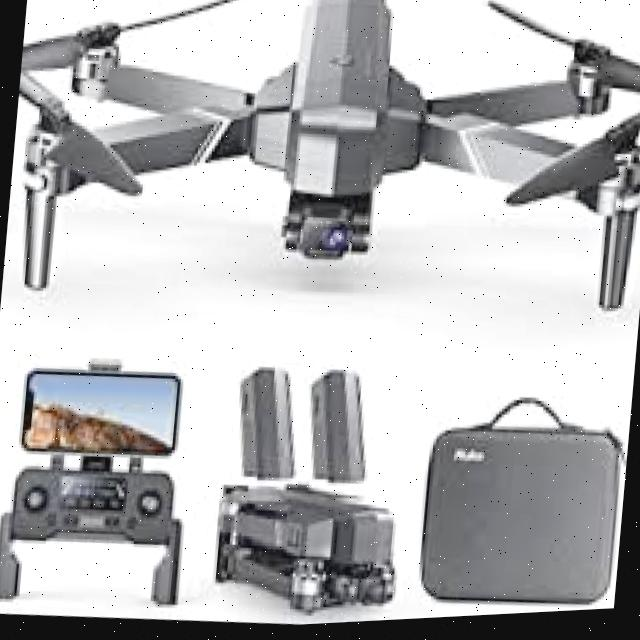drone: (0, 0, 640, 375)
